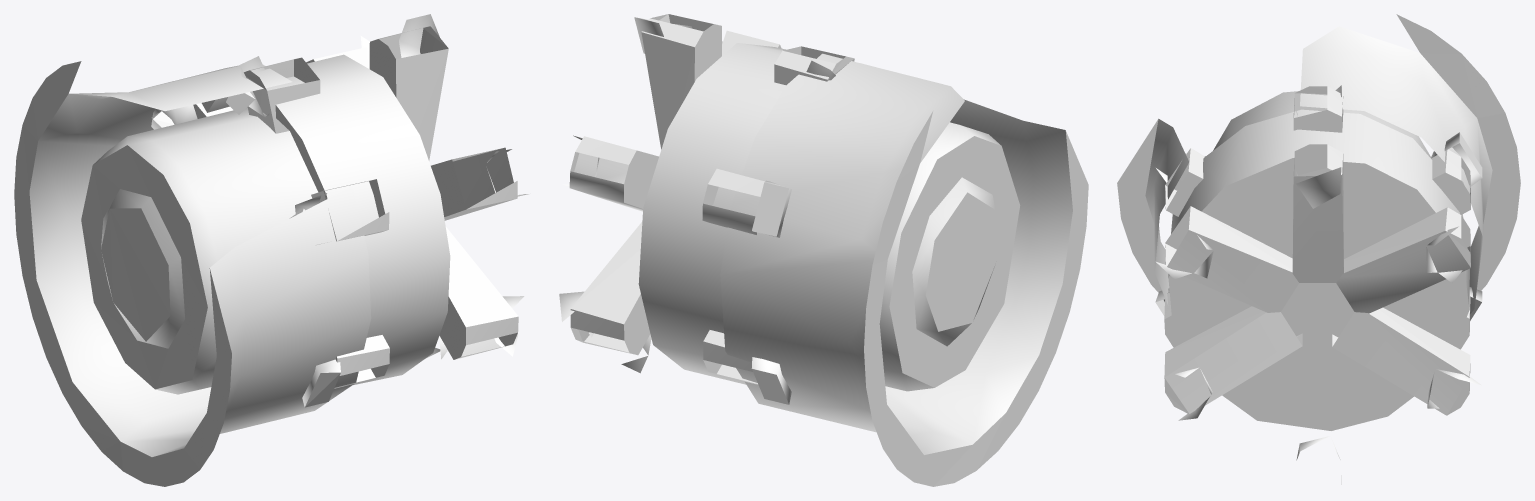
3 views of the same model, side by side, from view 1: azimuth 30°, elevation 25°; view 2: azimuth 150°, elevation 25°; view 3: azimuth 270°, elevation 25° (orthographic). The views are drawn at different scales.
Size of the model in its own units: 0.6232 by 0.6815 by 0.7085.
Materials: 1 (1 with a texture image).
